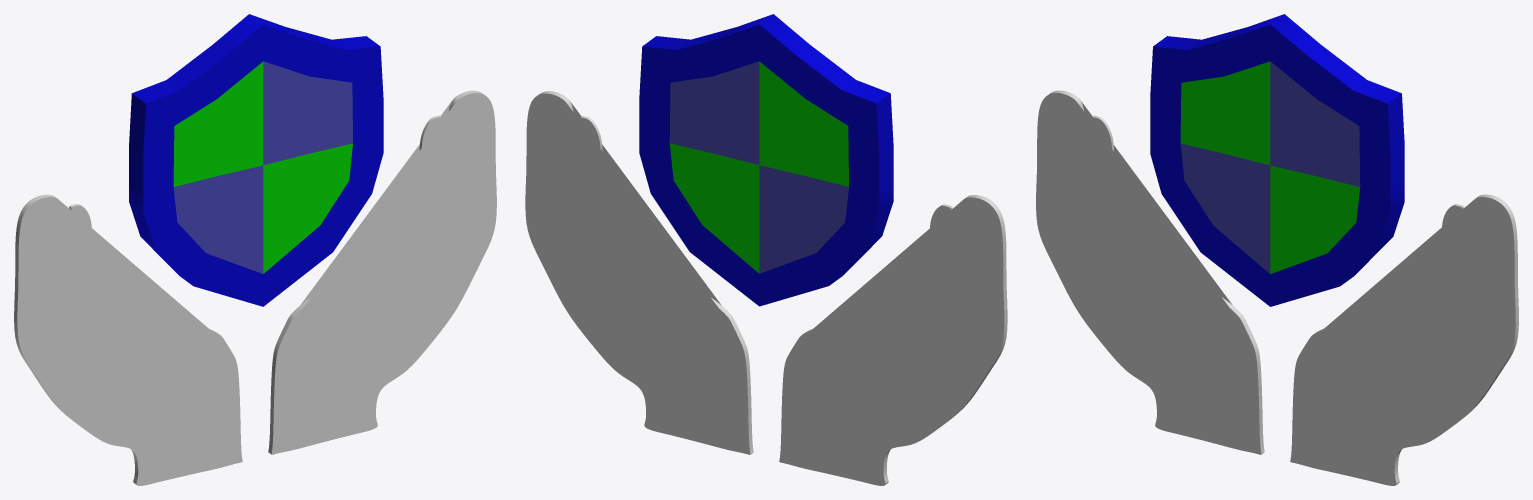
Rendered from insuranceItem.fbx.
The picture shows the model from 3 angles, left to right: view 1: azimuth 30°, elevation 25°; view 2: azimuth 150°, elevation 25°; view 3: azimuth 330°, elevation 25°; orthographic projection.
Visible parts, largest first — view 1: pCube1, bevelPolygon6, bevelPolygon3; view 2: pCube1, bevelPolygon6, bevelPolygon3; view 3: pCube1, bevelPolygon3, bevelPolygon6.
Boxes of the visible parts, bbox=[...] form: pCube1: bbox=[129, 14, 383, 306]; bevelPolygon6: bbox=[268, 90, 496, 454]; bevelPolygon3: bbox=[14, 194, 242, 485]; pCube1: bbox=[639, 14, 893, 306]; bevelPolygon6: bbox=[525, 91, 753, 454]; bevelPolygon3: bbox=[779, 195, 1007, 485]; pCube1: bbox=[1150, 14, 1404, 306]; bevelPolygon3: bbox=[1036, 90, 1264, 454]; bevelPolygon6: bbox=[1290, 194, 1518, 485].
Size of the model in its own units: 2.96 by 2.58 by 0.1515.
